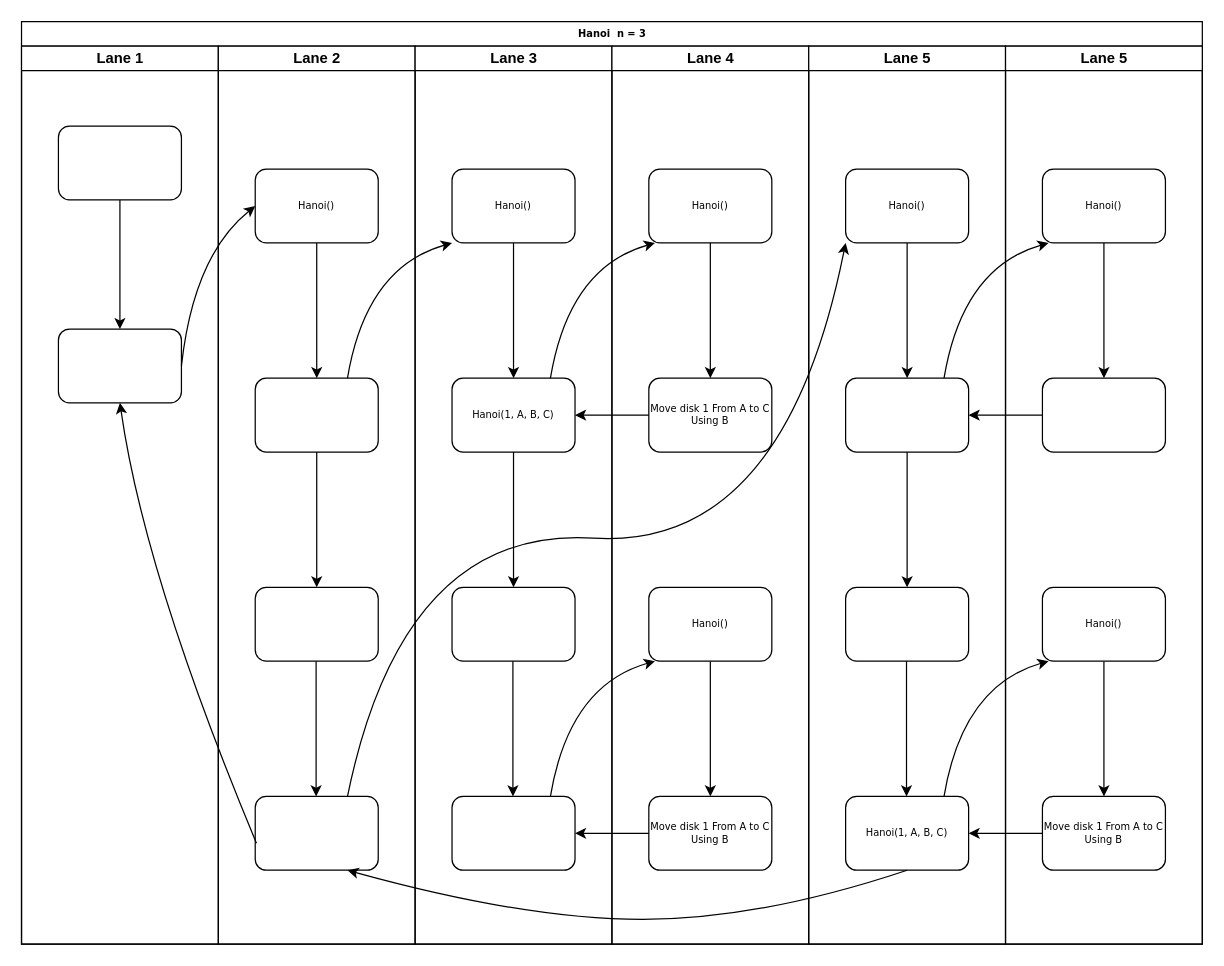
This 1224x966 diagram has some shape labels left out. The shapes that lost their labels are listed below. From the top down, each one's centre as x and y in pixels, then its label:
At [119,162]: "Main".
At [119,365]: "Hanoi(3, A, B, C)".
At [316,414]: "Hanoi(2, A, C, B)".
At [906,414]: "Hanoi(1, B, C, A)".
At [1103,414]: "Move disk 1 From B to A Using C".
At [316,623]: "Move disk 3 From A to C Using B".
At [513,623]: "Move disk 2 From A to B Using C".
At [906,623]: "Move disk 2 From B to C Using A".
At [316,832]: "Hanoi(2, B, A, C)".
At [513,832]: "Hanoi(1, C, A, B)".
